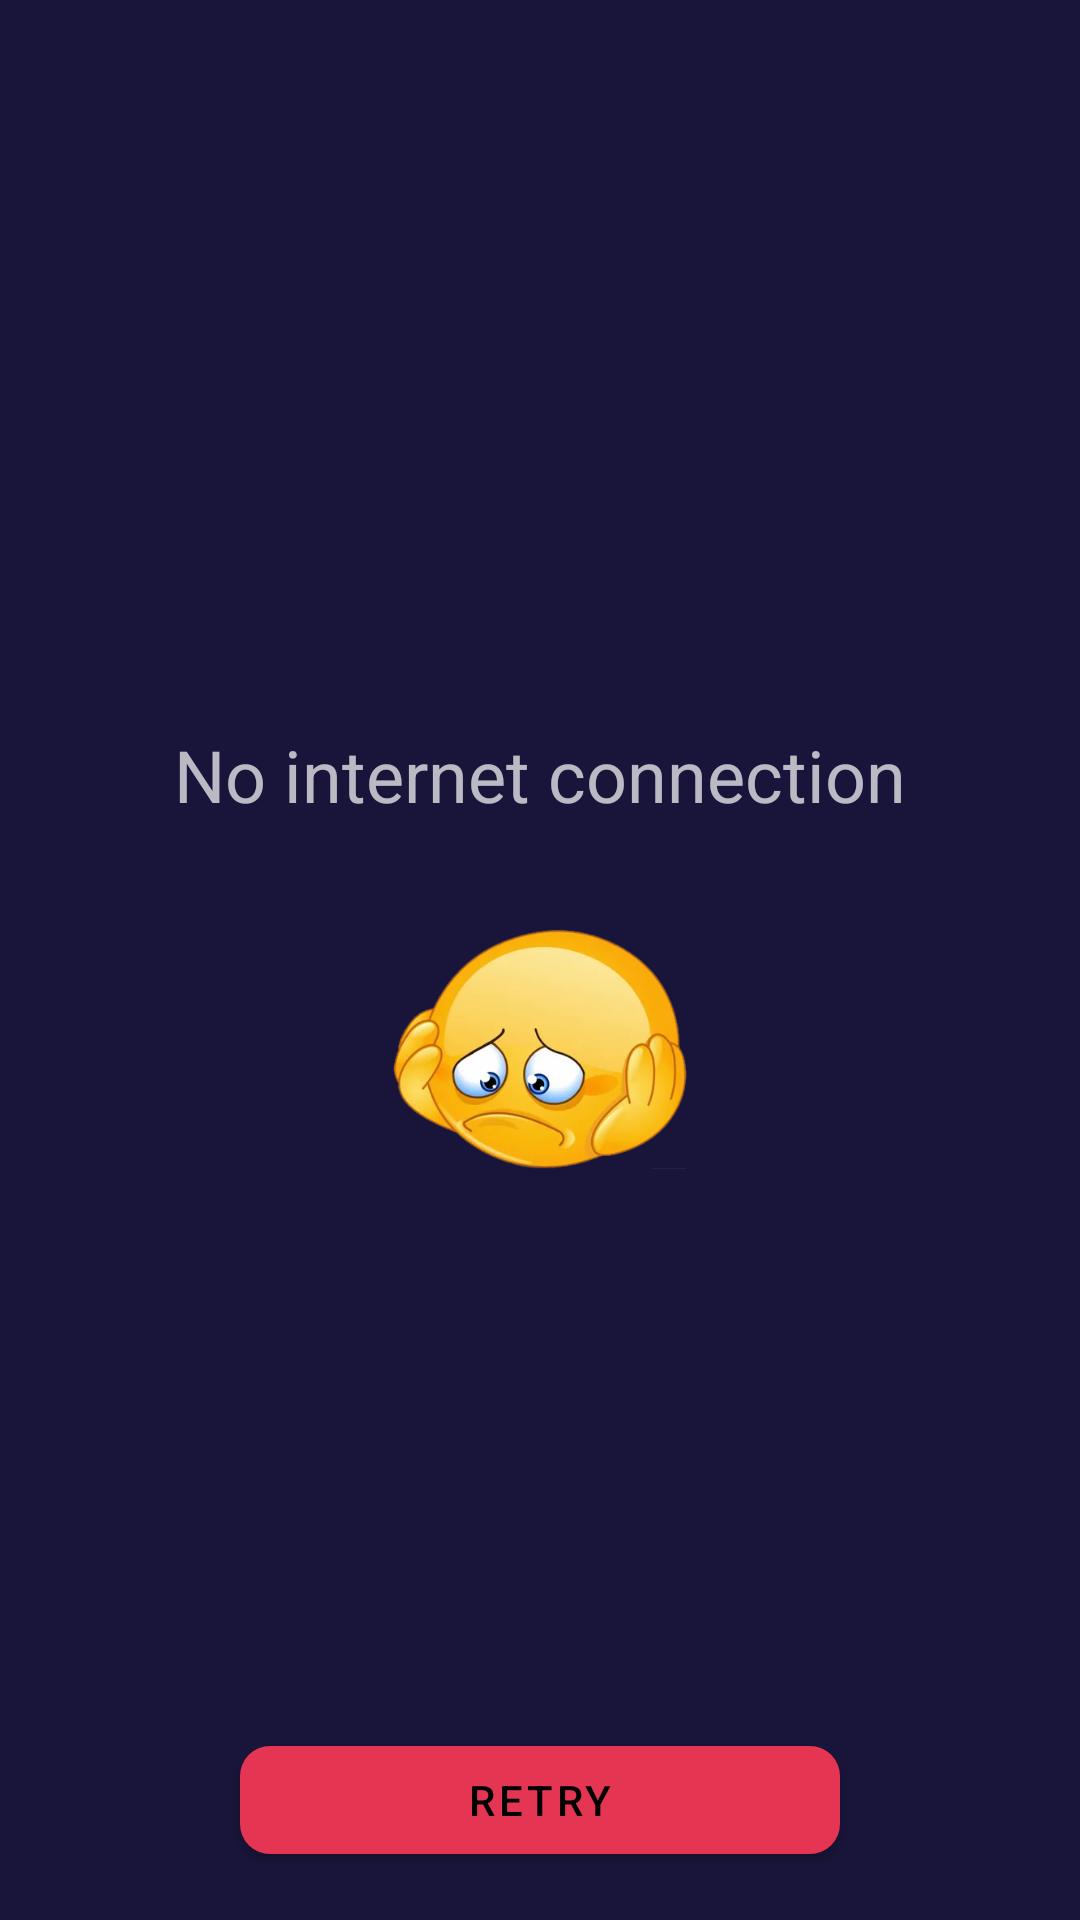

Screen size 1080 × 1920. Icon name, then its center in pixels as (x,y):
sad smile: (540,1049)
